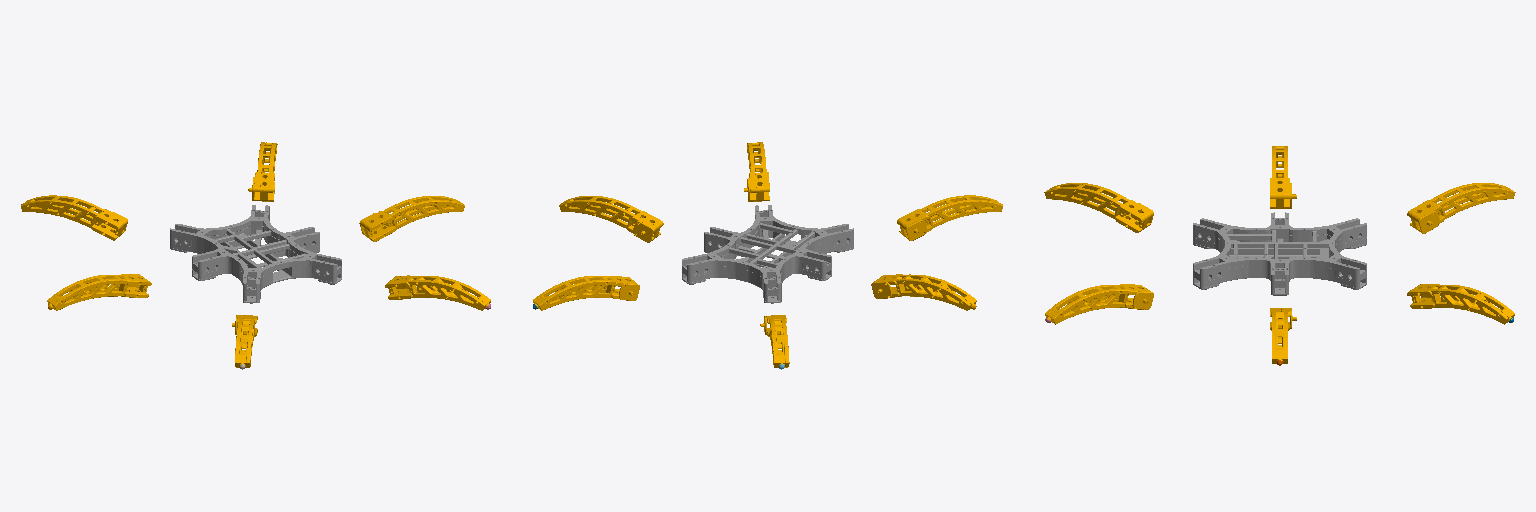
--- Render facts (derived) ---
3 views of the same robot in one strip: view 1: azimuth 30°, elevation 25°; view 2: azimuth 150°, elevation 25°; view 3: azimuth 270°, elevation 25° (orthographic).
Robot: onshape — 26 links, 25 joints (18 revolute, 7 fixed); root link world; default pose: every joint at zero.
Links seen in each view (by area): view 1: bodyv2, tibiav2-cp_l_3, tibiav2-cp_r_2, tibiav2-cp_r_3, tibiav2-cp_l_2, tibiav2-cp_r, tibiav2-cp_l; view 2: bodyv2, tibiav2-cp_l, tibiav2-cp_r_2, tibiav2-cp_r, tibiav2-cp_l_2, tibiav2-cp_r_3, tibiav2-cp_l_3; view 3: bodyv2, tibiav2-cp_l, tibiav2-cp_l_3, tibiav2-cp_r_3, tibiav2-cp_r, tibiav2-cp_l_2, tibiav2-cp_r_2.
Link boxes in pixels (x1,y1,x2,y2): bodyv2: [170, 205, 341, 303]; tibiav2-cp_l_3: [21, 195, 127, 240]; tibiav2-cp_r_2: [359, 196, 464, 241]; tibiav2-cp_r_3: [385, 275, 490, 310]; tibiav2-cp_l_2: [47, 274, 151, 310]; tibiav2-cp_r: [248, 142, 277, 201]; tibiav2-cp_l: [232, 315, 257, 368]; bodyv2: [682, 205, 853, 303]; tibiav2-cp_l: [897, 195, 1002, 240]; tibiav2-cp_r_2: [559, 196, 663, 242]; tibiav2-cp_r: [533, 276, 639, 310]; tibiav2-cp_l_2: [871, 274, 976, 310]; tibiav2-cp_r_3: [744, 142, 769, 201]; tibiav2-cp_l_3: [760, 315, 789, 367]; bodyv2: [1193, 212, 1366, 295]; tibiav2-cp_l: [1044, 183, 1153, 232]; tibiav2-cp_l_3: [1407, 183, 1515, 233]; tibiav2-cp_r_3: [1045, 284, 1153, 324]; tibiav2-cp_r: [1407, 284, 1514, 324]; tibiav2-cp_l_2: [1270, 146, 1296, 208]; tibiav2-cp_r_2: [1270, 308, 1296, 363].
Bounding box of the posed robot: 1.03 × 0.9541 × 0.0658 m (x, y, z).
Meshes: 7 distinct files referenced, 7 mesh visuals loaded (3 OBJ); not drawn: 12 (reference not matched to a file when rendering).

robot.urdf — onshape:
<robot name="onshape">

    <link name="world"/>

    <joint name="fixed" type="fixed">
        <parent link="world"/>
        <child link="bodyv2"/>
    </joint>

    <link name="bodyv2">
        <visual>
            <origin xyz="0 0 0" rpy="0 -0 0" />
            <geometry>
                <mesh filename="../meshes/bodyv2.obj" />
            </geometry>
            <material name="bodyv2_material">
                <color
                    rgba="0.64705882352941179736 0.64705882352941179736 0.64705882352941179736 1.0" />
            </material>
        </visual>
        <collision>
            <origin rpy="0 0 0" xyz="0 0 0.0208"/>
            <geometry>
                <box size="0.154 0.224 0.0415"/>
            </geometry>
        </collision>
        <inertial>
            <origin
                xyz="-0.00016156646610776290531 0.0020690551697271782582 0.018635279603876668542"
                rpy="0 0 0" />
            <mass value="1.2037374722047951003" />
            <inertia ixx="0.010656763365604652108" ixy="1.1009035481021484386e-06"
                ixz="2.5007077941524114511e-06" iyy="0.0071653095044550470932"
                iyz="2.6102685037083721384e-05" izz="0.017431156217660285362" />
        </inertial>
    </link>



    <link name="coxav2-cp_r">
        <visual>
            <origin xyz="0.044924999999999687406 3.3841416545784007838e-16 0.015349999999999995592"
                rpy="-2.220446050594320057e-16 4.1572969705147401066e-27 7.478872514840289116e-17" />
            <geometry>
                <mesh filename="../meshes/coxav2-cp_r.obj" />
            </geometry>
            <material name="coxav2-cp_r_material">
                <color rgba="0.2313725490196078538 0.38039215686274507888 0.7058823529411765163 1.0" />
            </material>
        </visual>
        <collision>
            <origin xyz="0.0155 0.0 0.0246" rpy="0.0 0.0 0.0"/>
            <geometry>  
                <box size="0.09626568 0.0415 0.073"/>
            </geometry>
        </collision>
        <inertial>
            <origin xyz="0.030948537684062606828 0.0015279358057482558906 0.025335970459042220226"
                rpy="0 0 0" />
            <mass value="0.12884275139013859346" />
            <inertia ixx="0.00011011455913134015521" ixy="-2.8149219260561553808e-06"
                ixz="8.9250422527697492926e-06" iyy="0.00016056370782807269891"
                iyz="1.7135142885492474365e-06" izz="9.2722387824107529151e-05" />
        </inertial>
    </link>

    <link name="femurv2-cp_r">
        <visual>
            <origin xyz="0.11831370849898595332 -1.3877787807814456755e-17 0.025050000000000006289"
                rpy="-1.570796326794896336 2.3154521450840299509e-16 -1.8792258622622753027e-32" />
            <geometry>
                <mesh filename="../meshes/femurv2-cp_r.obj" />
            </geometry>
            <material name="femurv2-cp_r_material">
                <color
                    rgba="0.97254901960784312376 0.52941176470588235947 0.0039215686274509803377 1.0" />
            </material>
        </visual>
        <collision>
            <origin xyz="0.059156855 0.0 0.0246" rpy="0.0 0.0 0.0"/>
            <geometry>  
                <box size="0.156314 0.0415 0.073"/>
            </geometry>
        </collision>
        <inertial>
            <origin xyz="0.06082506750932465539 -1.5136200039238513742e-09 0.026970838378384598411"
                rpy="0 0 0" />
            <mass value="0.12070110637352102212" />
            <inertia ixx="0.00012336870256801971395" ixy="-3.2244334122795035788e-06"
                ixz="5.1376080092876681537e-07" iyy="0.00032491531984020667612"
                iyz="-2.1187797231752816524e-13" izz="0.00023604451059041267461" />
        </inertial>
    </link>

    <link name="tibiav2-cp_r">
        <visual>
            <origin xyz="0.22117075446837414221 0.00010480390885179644012 0.025250000000001146527"
                rpy="-1.5707963267948961139 2.0881301362003362234e-16 -2.4651903288156624393e-32" />
            <geometry>
                <mesh filename="../meshes/tibiav2-cp_r.obj" />
            </geometry>
            <material name="tibiav2-cp_r_material">
                <color
                    rgba="0.98039215686274505668 0.71372549019607844922 0.0039215686274509803377 1.0" />
            </material>
        </visual>
        <collision>
            <origin xyz="0.01352462339 0.003617258919 0.02509" rpy="0.0 0.0 0.26134120396 "/>
            <geometry>  
                <box size="0.0655 0.0415 0.0417"/>
            </geometry>
        </collision>
        <inertial>
            <origin xyz="0.082592297380876616986 0.012229493286894628848 0.024032647470113480126"
                rpy="0 0 0" />
            <mass value="0.16860990559390126586" />
            <inertia ixx="6.244932437467701897e-05" ixy="-5.8064365362945862654e-05"
                ixz="-1.6251472388168913152e-05" iyy="0.00086246462711135152366"
                iyz="-2.3947943719185567726e-06" izz="0.00087270111324797559112" />
        </inertial>
    </link>

    <joint name="FemurTibia1" type="revolute">
        <origin xyz="0.1183137084989848431 -1.9081958235744878039e-17 -4.1633363423443370266e-17"
            rpy="-1.6953482199534145611e-17 7.4923617708775792653e-17 5.551115123541516097e-17" />
        <parent link="femurv2-cp_r" />
        <child link="tibiav2-cp_r" />
        <axis xyz="0 0 1" />
        <limit effort="1" velocity="20" />
        <joint_properties friction="0.0" />
    </joint>

    <joint name="CoxaFemur1" type="revolute">
        <origin xyz="0.044924999999999853939 0.025050000000000370581 0.015349999999999990388"
            rpy="1.570796326794896336 4.1572979018096710656e-27 1.3525580482673391912e-16" />
        <parent link="coxav2-cp_r" />
        <child link="femurv2-cp_r" />
        <axis xyz="0 0 1" />
        <limit effort="1" velocity="20" />
        <joint_properties friction="0.0" />
    </joint>

    <joint name="BodyCoxa1" type="revolute">
        <origin xyz="0.098035026302704594836 0.15096070223017660217 -0.0045000000000000005274"
            rpy="0 -2.4651903296048737344e-32 0.99483767363676756101" />
        <parent link="bodyv2" />
        <child link="coxav2-cp_r" />
        <axis xyz="0 0 1" />
        <limit effort="1" velocity="20" />
        <joint_properties friction="0.0" />
    </joint>

    <link name="coxav2-cp_r_2">
        <visual>
            <origin xyz="0.044924999999999715161 3.2028130148349362021e-16 0.015349999999999995592"
                rpy="-2.220446050594320057e-16 4.1572969705147401066e-27 7.9187868350077541959e-59" />
            <geometry>
                <mesh filename="../meshes/coxav2-cp_r.obj" />
            </geometry>
            <material name="coxav2-cp_r_material">
                <color rgba="0.2313725490196078538 0.38039215686274507888 0.7058823529411765163 1.0" />
            </material>
        </visual>
        <collision>
            <origin xyz="0.0155 0.0 0.0246" rpy="0.0 0.0 0.0"/>
            <geometry>  
                <box size="0.09626568 0.0415 0.073"/>
            </geometry>
        </collision>
        <inertial>
            <origin xyz="0.030948537684062631115 0.001527935805748238977 0.025335970459042220226"
                rpy="0 0 0" />
            <mass value="0.12884275139013859346" />
            <inertia ixx="0.00011011455913134015521" ixy="-2.8149219260561706274e-06"
                ixz="8.9250422527697492926e-06" iyy="0.00016056370782807275312"
                iyz="1.713514288549247013e-06" izz="9.2722387824107529151e-05" />
        </inertial>
    </link>

    <link name="femurv2-cp_r_2">
        <visual>
            <origin xyz="0.11831370849898600883 -1.3877787807814456755e-17 0.025049999999999964656"
                rpy="-1.570796326794896336 2.8723936427800499152e-16 0" />
            <geometry>
                <mesh filename="../meshes/femurv2-cp_r.obj" />
            </geometry>
            <material name="femurv2-cp_r_material">
                <color
                    rgba="0.97254901960784312376 0.52941176470588235947 0.0039215686274509803377 1.0" />
            </material>
        </visual>
        <collision>
            <origin xyz="0.059156855 0.0 0.0246" rpy="0.0 0.0 0.0"/>
            <geometry>  
                <box size="0.156314 0.0415 0.073"/>
            </geometry>
        </collision>
        <inertial>
            <origin xyz="0.060825067509324703963 -1.5136200039238513742e-09 0.026970838378384560247"
                rpy="0 0 0" />
            <mass value="0.12070110637352102212" />
            <inertia ixx="0.00012336870256801976816" ixy="-3.2244334122795040023e-06"
                ixz="5.1376080092877952086e-07" iyy="0.00032491531984020667612"
                iyz="-2.1187797213794611325e-13" izz="0.00023604451059041272882" />
        </inertial>
    </link>

    <link name="tibiav2-cp_r_2">
        <visual>
            <origin xyz="0.22117075446837425323 0.00010480390885179644012 0.025250000000001143058"
                rpy="-1.5707963267948961139 2.3241406019702804199e-16 0" />
            <geometry>
                <mesh filename="../meshes/tibiav2-cp_r.obj" />
            </geometry>
            <material name="tibiav2-cp_r_material">
                <color
                    rgba="0.98039215686274505668 0.71372549019607844922 0.0039215686274509803377 1.0" />
            </material>
        </visual>
        <collision>
            <origin xyz="0.01352462339 0.003617258919 0.02509" rpy="0.0 0.0 0.26134120396 "/>
            <geometry>  
                <box size="0.0655 0.0415 0.0417"/>
            </geometry>
        </collision>
        <inertial>
            <origin xyz="0.082592297380876700252 0.012229493286894628848 0.024032647470113480126"
                rpy="0 0 0" />
            <mass value="0.16860990559390126586" />
            <inertia ixx="6.2449324374677046075e-05" ixy="-5.806436536294586943e-05"
                ixz="-1.6251472388168875882e-05" iyy="0.00086246462711135152366"
                iyz="-2.394794371918555502e-06" izz="0.00087270111324797580796" />
        </inertial>
    </link>

    <joint name="FemurTibia2" type="revolute">
        <origin xyz="0.11831370849898506514 0 0" rpy="0 5.8915479855140975462e-52 0" />
        <parent link="femurv2-cp_r_2" />
        <child link="tibiav2-cp_r_2" />
        <axis xyz="0 0 1" />
        <limit effort="1" velocity="20" />
        <joint_properties friction="0.0" />
    </joint>

    <joint name="CoxaFemur2" type="revolute">
        <origin xyz="0.044924999999999687406 0.025050000000000322009 0.015349999999999990388"
            rpy="1.570796326794896336 4.1572969705147401066e-27 1.1832913578315177081e-30" />
        <parent link="coxav2-cp_r_2" />
        <child link="femurv2-cp_r_2" />
        <axis xyz="0 0 1" />
        <limit effort="1" velocity="20" />
        <joint_properties friction="0.0" />
    </joint>

    <joint name="BodyCoxa2" type="revolute">
        <origin xyz="0.13000000000000000444 2.088607032214904854e-19 -0.0039000000000000006883"
            rpy="0 -0 -7.9187868350077541959e-59" />
        <parent link="bodyv2" />
        <child link="coxav2-cp_r_2" />
        <axis xyz="0 0 1" />
        <limit effort="1" velocity="20" />
        <joint_properties friction="0.0" />
    </joint>

    <link name="coxav2-cp_r_3">
        <visual>
            <origin xyz="0.044924999999999742917 3.257639905383399944e-16 0.015349999999999995592"
                rpy="-2.220446050594320057e-16 4.1572969705147401066e-27 8.040461820721662843e-17" />
            <geometry>
                <mesh filename="../meshes/coxav2-cp_r.obj" />
            </geometry>
            <material name="coxav2-cp_r_material">
                <color rgba="0.2313725490196078538 0.38039215686274507888 0.7058823529411765163 1.0" />
            </material>
        </visual>
        <collision>
            <origin xyz="0.0155 0.0 0.0246" rpy="0.0 0.0 0.0"/>
            <geometry>  
                <box size="0.09626568 0.0415 0.073"/>
            </geometry>
        </collision>
        <inertial>
            <origin xyz="0.03094853768406265887 0.0015279358057482433138 0.025335970459042220226"
                rpy="0 0 0" />
            <mass value="0.12884275139013859346" />
            <inertia ixx="0.00011011455913134015521" ixy="-2.8149219260561803683e-06"
                ixz="8.9250422527697492926e-06" iyy="0.00016056370782807275312"
                iyz="1.7135142885492476482e-06" izz="9.2722387824107529151e-05" />
        </inertial>
    </link>

    <link name="femurv2-cp_r_3">
        <visual>
            <origin xyz="0.11831370849898603659 -1.3877787807814456755e-17 0.025049999999999978534"
                rpy="-1.570796326794896336 2.8440316557020761339e-16 -3.5727006843363076696e-33" />
            <geometry>
                <mesh filename="../meshes/femurv2-cp_r.obj" />
            </geometry>
            <material name="femurv2-cp_r_material">
                <color
                    rgba="0.97254901960784312376 0.52941176470588235947 0.0039215686274509803377 1.0" />
            </material>
        </visual>
        <collision>
            <origin xyz="0.059156855 0.0 0.0246" rpy="0.0 0.0 0.0"/>
            <geometry>  
                <box size="0.156314 0.0415 0.073"/>
            </geometry>
        </collision>
        <inertial>
            <origin xyz="0.060825067509324710902 -1.5136200039238513742e-09 0.026970838378384574124"
                rpy="0 0 0" />
            <mass value="0.12070110637352102212" />
            <inertia ixx="0.00012336870256801982237" ixy="-3.2244334122795048494e-06"
                ixz="5.1376080092877920322e-07" iyy="0.00032491531984020667612"
                iyz="-2.118779721470912452e-13" izz="0.00023604451059041272882" />
        </inertial>
    </link>

    <link name="tibiav2-cp_r_3">
        <visual>
            <origin xyz="0.22117075446837430874 0.00010480390885179644012 0.025250000000001153466"
                rpy="-1.5707963267948961139 2.6140117956109480423e-16 -5.2039607354307863881e-33" />
            <geometry>
                <mesh filename="../meshes/tibiav2-cp_r.obj" />
            </geometry>
            <material name="tibiav2-cp_r_material">
                <color
                    rgba="0.98039215686274505668 0.71372549019607844922 0.0039215686274509803377 1.0" />
            </material>
        </visual>
        <collision>
            <origin xyz="0.01352462339 0.003617258919 0.02509" rpy="0.0 0.0 0.26134120396 "/>
            <geometry>  
                <box size="0.0655 0.0415 0.0417"/>
            </geometry>
        </collision>
        <inertial>
            <origin xyz="0.082592297380876755764 0.012229493286894628848 0.024032647470113490534"
                rpy="0 0 0" />
            <mass value="0.16860990559390126586" />
            <inertia ixx="6.2449324374677046075e-05" ixy="-5.806436536294586943e-05"
                ixz="-1.6251472388168777626e-05" iyy="0.00086246462711135152366"
                iyz="-2.394794371918553808e-06" izz="0.00087270111324797559112" />
        </inertial>
    </link>

    <joint name="FemurTibia3" type="revolute">
        <origin xyz="0.11831370849898475983 1.7347234759768070944e-18 1.3877787807814456755e-17"
            rpy="-3.4512664603419244591e-31 8.8134141193996676966e-17 3.2186500697891184772e-32" />
        <parent link="femurv2-cp_r_3" />
        <child link="tibiav2-cp_r_3" />
        <axis xyz="0 0 1" />
        <limit effort="1" velocity="20" />
        <joint_properties friction="0.0" />
    </joint>

    <joint name="CoxaFemur3" type="revolute">
        <origin xyz="0.044924999999999604139 0.025050000000000294254 0.015349999999999992123"
            rpy="1.570796326794896336 4.1572979018096681958e-27 5.5624975971851880972e-17" />
        <parent link="coxav2-cp_r_3" />
        <child link="femurv2-cp_r_3" />
        <axis xyz="0 0 1" />
        <limit effort="1" velocity="20" />
        <joint_properties friction="0.0" />
    </joint>

    <joint name="BodyCoxa3" type="revolute">
        <origin xyz="0.09803502630270488627 -0.1509607022301762691 -0.0044999999999999987926"
            rpy="-1.9721522630525295135e-31 -7.8921129510773646455e-42 -0.99483767363676967044" />
        <parent link="bodyv2" />
        <child link="coxav2-cp_r_3" />
        <axis xyz="0 0 1" />
        <limit effort="1" velocity="20" />
        <joint_properties friction="0.0" />
    </joint>

    <link name="coxav2-cp_l">
        <visual>
            <origin xyz="0.044924999999999687406 -3.201838345771710557e-16 0.015349999999999995592"
                rpy="-2.220446050594320057e-16 -4.1572969705147401066e-27 -3.141592653589793116" />
            <geometry>
                <mesh filename="../meshes/coxav2-cp_l.obj" />
            </geometry>
            <material name="coxav2-cp_l_material">
                <color rgba="0.2313725490196078538 0.38039215686274507888 0.7058823529411765163 1.0" />
            </material>
        </visual>
        <collision>
            <origin xyz="0.0155 0.0 0.0246" rpy="0.0 0.0 0.0"/>
            <geometry>  
                <box size="0.09626568 0.0415 0.073"/>
            </geometry>
        </collision>
        <inertial>
            <origin xyz="0.030948330328326324051 -0.0015279350267063975238 0.025335805878510614386"
                rpy="0 0 0" />
            <mass value="0.12884168129204809361" />
            <inertia ixx="0.00011011326055947715961" ixy="2.8148565689187824999e-06"
                ixz="8.9253727001102267164e-06" iyy="0.00016056187126428921345"
                iyz="-1.7132149842332346516e-06" izz="9.2721677711425317704e-05" />
        </inertial>
    </link>

    <link name="femurv2-cp_l">
        <visual>
            <origin xyz="0.11831370849898598108 1.3877787807814456755e-17 0.025049999999999988942"
                rpy="-1.570796326794896336 -2.1434928901735174212e-16 -3.141592653589793116" />
            <geometry>
                <mesh filename="../meshes/femurv2-cp_l.obj" />
            </geometry>
            <material name="femurv2-cp_l_material">
                <color
                    rgba="0.97254901960784312376 0.52941176470588235947 0.0039215686274509803377 1.0" />
            </material>
        </visual>
        <collision>
            <origin xyz="0.059156855 0.0 0.0246" rpy="0.0 0.0 0.0"/>
            <geometry>  
                <box size="0.156314 0.0415 0.073"/>
            </geometry>
        </collision>
        <inertial>
            <origin xyz="0.060825060358375086789 2.5728453038989989627e-09 0.026970844356125546482"
                rpy="0 0 0" />
            <mass value="0.12070103811634615154" />
            <inertia ixx="0.00012336867803479324365" ixy="3.2244249879171339253e-06"
                ixz="5.1375358470081635524e-07" iyy="0.00032491528790824406817"
                iyz="3.3631755549265157386e-12" izz="0.00023604448941317229338" />
        </inertial>
    </link>

    <link name="tibiav2-cp_l">
        <visual>
            <origin xyz="0.22117075446837430874 -0.00010480390885179644012 0.025250000000001122241"
                rpy="-1.5707963267948961139 -2.9768346214442543876e-16 3.141592653589793116" />
            <geometry>
                <mesh filename="../meshes/tibiav2-cp_l.obj" />
            </geometry>
            <material name="tibiav2-cp_l_material">
                <color
                    rgba="0.98039215686274505668 0.71372549019607844922 0.0039215686274509803377 1.0" />
            </material>
        </visual>
        <collision>
            <origin xyz="0.01352462339 0.003617258919 0.02509" rpy="0.0 0.0 0.26134120396 "/>
            <geometry>  
                <box size="0.0655 0.0415 0.0417"/>
            </geometry>
        </collision>
        <inertial>
            <origin xyz="0.082592290189909739473 -0.012229487075237986671 0.024032591894866818516"
                rpy="0 0 0" />
            <mass value="0.16860992998600971005" />
            <inertia ixx="6.2449347675464560799e-05" ixy="5.8064455622301218104e-05"
                ixz="-1.6251800133231701986e-05" iyy="0.00086246474699329129382"
                iyz="2.394828232458152766e-06" izz="0.00087270127201055560512" />
        </inertial>
    </link>

    <joint name="FemurTibia4" type="revolute">
        <origin xyz="0.11831370849898503739 -3.4694469519536141888e-18 -4.5102810375396984455e-17"
            rpy="0 5.277176377065159758e-17 -1.2797962189837723024e-32" />
        <parent link="femurv2-cp_l" />
        <child link="tibiav2-cp_l" />
        <axis xyz="0 0 1" />
        <limit effort="1" velocity="20" />
        <joint_properties friction="0.0" />
    </joint>

    <joint name="CoxaFemur4" type="revolute">
        <origin xyz="0.044924999999999770672 -0.025050000000000297723 0.01534999999999997651"
            rpy="-1.570796326794896336 4.1572948203217621985e-27 4.8473574358091203186e-17" />
        <parent link="coxav2-cp_l" />
        <child link="femurv2-cp_l" />
        <axis xyz="0 0 1" />
        <limit effort="1" velocity="20" />
        <joint_properties friction="0.0" />
    </joint>

    <joint name="BodyCoxa4" type="revolute">
        <origin xyz="-0.09803502630270369278 -0.15096070223017762912 -0.0044999999999999970579"
            rpy="-4.9303806576313237838e-32 -7.8921129510773735669e-42 -2.1467549799530263321" />
        <parent link="bodyv2" />
        <child link="coxav2-cp_l" />
        <axis xyz="0 0 1" />
        <limit effort="1" velocity="20" />
        <joint_properties friction="0.0" />
    </joint>

    <link name="coxav2-cp_l_2">
        <visual>
            <origin xyz="0.044924999999999715161 -3.2028130148349366951e-16 0.015349999999999995592"
                rpy="-2.220446050594320057e-16 -4.1572969705147401066e-27 3.141592653589793116" />
            <geometry>
                <mesh filename="../meshes/coxav2-cp_l.obj" />
            </geometry>
            <material name="coxav2-cp_l_material">
                <color rgba="0.2313725490196078538 0.38039215686274507888 0.7058823529411765163 1.0" />
            </material>
        </visual>
        <collision>
            <origin xyz="0.0155 0.0 0.0246" rpy="0.0 0.0 0.0"/>
            <geometry>  
                <box size="0.09626568 0.0415 0.073"/>
            </geometry>
        </collision>
        <inertial>
            <origin xyz="0.030948330328326358746 -0.0015279350267063966564 0.025335805878510614386"
                rpy="0 0 0" />
            <mass value="0.12884168129204809361" />
            <inertia ixx="0.00011011326055947715961" ixy="2.8148565689187634416e-06"
                ixz="8.9253727001102267164e-06" iyy="0.00016056187126428921345"
                iyz="-1.7132149842332352868e-06" izz="9.2721677711425317704e-05" />
        </inertial>
    </link>

    <link name="femurv2-cp_l_2">
        <visual>
            <origin xyz="0.11831370849898600883 1.3877787807814456755e-17 0.025049999999999964656"
                rpy="-1.570796326794896336 -2.8723936427800499152e-16 3.141592653589793116" />
            <geometry>
                <mesh filename="../meshes/femurv2-cp_l.obj" />
            </geometry>
            <material name="femurv2-cp_l_material">
                <color
                    rgba="0.97254901960784312376 0.52941176470588235947 0.0039215686274509803377 1.0" />
            </material>
        </visual>
        <collision>
            <origin xyz="0.059156855 0.0 0.0246" rpy="0.0 0.0 0.0"/>
            <geometry>  
                <box size="0.156314 0.0415 0.073"/>
            </geometry>
        </collision>
        <inertial>
            <origin xyz="0.060825060358375114544 2.5728453038989989627e-09 0.026970844356125525665"
                rpy="0 0 0" />
            <mass value="0.12070103811634615154" />
            <inertia ixx="0.00012336867803479324365" ixy="3.2244249879171339253e-06"
                ixz="5.1375358470080110865e-07" iyy="0.00032491528790824406817"
                iyz="3.3631755546914869886e-12" izz="0.00023604448941317229338" />
        </inertial>
    </link>

    <link name="tibiav2-cp_l_2">
        <visual>
            <origin xyz="0.22117075446837425323 -0.00010480390885179644012 0.025250000000001143058"
                rpy="-1.5707963267948961139 -2.3241406019702804199e-16 3.141592653589793116" />
            <geometry>
                <mesh filename="../meshes/tibiav2-cp_l.obj" />
            </geometry>
            <material name="tibiav2-cp_l_material">
                <color
                    rgba="0.98039215686274505668 0.71372549019607844922 0.0039215686274509803377 1.0" />
            </material>
        </visual>
        <collision>
            <origin xyz="0.01352462339 0.003617258919 0.02509" rpy="0.0 0.0 0.26134120396 "/>
            <geometry>  
                <box size="0.0655 0.0415 0.0417"/>
            </geometry>
        </collision>
        <inertial>
            <origin xyz="0.082592290189909656206 -0.012229487075237986671 0.024032591894866835863"
                rpy="0 0 0" />
            <mass value="0.16860992998600971005" />
            <inertia ixx="6.2449347675464587904e-05" ixy="5.806445562230122488e-05"
                ixz="-1.6251800133231674881e-05" iyy="0.00086246474699329129382"
                iyz="2.3948282324581565777e-06" izz="0.00087270127201055560512" />
        </inertial>
    </link>

    <joint name="FemurTibia5" type="revolute">
        <origin xyz="0.11831370849898506514 0 0" rpy="0 5.8915479855140975462e-52 0" />
        <parent link="femurv2-cp_l_2" />
        <child link="tibiav2-cp_l_2" />
        <axis xyz="0 0 1" />
        <limit effort="1" velocity="20" />
        <joint_properties friction="0.0" />
    </joint>

    <joint name="CoxaFemur5" type="revolute">
        <origin xyz="0.044924999999999687406 -0.025050000000000325479 0.015349999999999990388"
            rpy="-1.570796326794896336 4.1572969705147401066e-27 -1.1832913578315177081e-30" />
        <parent link="coxav2-cp_l_2" />
        <child link="femurv2-cp_l_2" />
        <axis xyz="0 0 1" />
        <limit effort="1" velocity="20" />
        <joint_properties friction="0.0" />
    </joint>

    <joint name="BodyCoxa5" type="revolute">
        <origin xyz="-0.13000000000000000444 -1.5987725032784004981e-15 -0.0045000000000000005274"
            rpy="0 -0 -3.141592653589793116" />
        <parent link="bodyv2" />
        <child link="coxav2-cp_l_2" />
        <axis xyz="0 0 1" />
        <limit effort="1" velocity="20" />
        <joint_properties friction="0.0" />
    </joint>

    <link name="coxav2-cp_l_3">
        <visual>
            <origin xyz="0.044924999999999715161 -3.1913241041673734937e-16 0.015349999999999995592"
                rpy="-2.220446050594320057e-16 -4.1572969705147401066e-27 -3.141592653589793116" />
            <geometry>
                <mesh filename="../meshes/coxav2-cp_l.obj" />
            </geometry>
            <material name="coxav2-cp_l_material">
                <color rgba="0.2313725490196078538 0.38039215686274507888 0.7058823529411765163 1.0" />
            </material>
        </visual>
        <collision>
            <origin xyz="0.0155 0.0 0.0246" rpy="0.0 0.0 0.0"/>
            <geometry>  
                <box size="0.09626568 0.0415 0.073"/>
            </geometry>
        </collision>
        <inertial>
            <origin xyz="0.030948330328326358746 -0.0015279350267063962227 0.025335805878510614386"
                rpy="0 0 0" />
            <mass value="0.12884168129204809361" />
            <inertia ixx="0.00011011326055947715961" ixy="2.8148565689187676768e-06"
                ixz="8.9253727001102267164e-06" iyy="0.00016056187126428915924"
                iyz="-1.7132149842332346516e-06" izz="9.2721677711425317704e-05" />
        </inertial>
    </link>

    <link name="femurv2-cp_l_3">
        <visual>
            <origin xyz="0.11831370849898598108 1.3877787807814456755e-17 0.025049999999999957717"
                rpy="-1.570796326794896336 -2.9683333007343419924e-16 3.141592653589793116" />
            <geometry>
                <mesh filename="../meshes/femurv2-cp_l.obj" />
            </geometry>
            <material name="femurv2-cp_l_material">
                <color
                    rgba="0.97254901960784312376 0.52941176470588235947 0.0039215686274509803377 1.0" />
            </material>
        </visual>
        <collision>
            <origin xyz="0.059156855 0.0 0.0246" rpy="0.0 0.0 0.0"/>
            <geometry>  
                <box size="0.156314 0.0415 0.073"/>
            </geometry>
        </collision>
        <inertial>
            <origin xyz="0.060825060358375086789 2.5728453038989989627e-09 0.026970844356125518726"
                rpy="0 0 0" />
            <mass value="0.12070103811634615154" />
            <inertia ixx="0.00012336867803479324365" ixy="3.2244249879171339253e-06"
                ixz="5.137535847007947559e-07" iyy="0.00032491528790824406817"
                iyz="3.3631755546605521301e-12" izz="0.00023604448941317229338" />
        </inertial>
    </link>

    <link name="tibiav2-cp_l_3">
        <visual>
            <origin xyz="0.22117075446837425323 -0.00010480390885179644012 0.025250000000001143058"
                rpy="-1.5707963267948961139 -2.9683333007343419924e-16 3.141592653589793116" />
            <geometry>
                <mesh filename="../meshes/tibiav2-cp_l.obj" />
            </geometry>
            <material name="tibiav2-cp_l_material">
                <color
                    rgba="0.98039215686274505668 0.71372549019607844922 0.0039215686274509803377 1.0" />
            </material>
        </visual>
        <collision>
            <origin xyz="0.01352462339 0.003617258919 0.02509" rpy="0.0 0.0 0.26134120396 "/>
            <geometry>  
                <box size="0.0655 0.0415 0.0417"/>
            </geometry>
        </collision>
        <inertial>
            <origin xyz="0.082592290189909656206 -0.012229487075237986671 0.024032591894866839333"
                rpy="0 0 0" />
            <mass value="0.16860992998600971005" />
            <inertia ixx="6.2449347675464587904e-05" ixy="5.806445562230122488e-05"
                ixz="-1.6251800133231651164e-05" iyy="0.00086246474699329129382"
                iyz="2.394828232458152766e-06" izz="0.00087270127201055560512" />
        </inertial>
    </link>

    <joint name="FemurTibia6" type="revolute">
        <origin xyz="0.11831370849898503739 -3.4694469519536141888e-18 -4.1633363423443370266e-17"
            rpy="0 1.4321645470071863198e-17 -8.3370216344272758499e-33" />
        <parent link="femurv2-cp_l_3" />
        <child link="tibiav2-cp_l_3" />
        <axis xyz="0 0 1" />
        <limit effort="1" velocity="20" />
        <joint_properties friction="0.0" />
    </joint>

    <joint name="CoxaFemur6" type="revolute">
        <origin xyz="0.044924999999999770672 -0.025050000000000283845 0.015350000000000004266"
            rpy="-1.570796326794896336 4.1572979018096717831e-27 5.3671757578478919314e-18" />
        <parent link="coxav2-cp_l_3" />
        <child link="femurv2-cp_l_3" />
        <axis xyz="0 0 1" />
        <limit effort="1" velocity="20" />
        <joint_properties friction="0.0" />
    </joint>

    <joint name="BodyCoxa6" type="revolute">
        <origin xyz="-0.098035026302705066681 0.1509607022301762691 -0.0044999999999999970579"
            rpy="0 -1.2325951651970425148e-32 2.146754979953025444" />
        <parent link="bodyv2" />
        <child link="coxav2-cp_l_3" />
        <axis xyz="0 0 1" />
        <limit effort="1" velocity="20" />
        <joint_properties friction="0.0" />
    </joint>

    <link name="Foot1">
        <visual name="">
            <origin xyz="0.215305 0.0025 0.025250000000001146527" rpy="0.0 0.0 0.0"/>
            <geometry>
                <sphere radius="0.00663587"/>
            </geometry>
        </visual>
        <collision>
            <origin xyz="0.215305 0.0025 0.025250000000001146527" rpy="0.0 0.0 0.0"/>
            <geometry>
                <sphere radius="0.00663587"/>
            </geometry>
        </collision>
    </link>

    <joint name="Foot1" type="fixed">
        <origin xyz="0.0 0.0 0.0" rpy="0.0 0.0 0.0"/>
        <parent link="tibiav2-cp_r"/>
        <child link="Foot1"/>
        <axis xyz="0.0 0.0 0.0"/>
    </joint>

    <link name="Foot2">
        <visual name="">
            <origin xyz="0.215305 0.0025 0.025250000000001146527" rpy="0.0 0.0 0.0"/>
            <geometry>
                <sphere radius="0.00663587"/>
            </geometry>
        </visual>
        <collision>
            <origin xyz="0.215305 0.0025 0.025250000000001146527" rpy="0.0 0.0 0.0"/>
            <geometry>
                <sphere radius="0.00663587"/>
            </geometry>
        </collision>
    </link>

    <joint name="Foot2" type="fixed">
        <origin xyz="0.0 0.0 0.0" rpy="0.0 0.0 0.0"/>
        <parent link="tibiav2-cp_r_2"/>
        <child link="Foot2"/>
        <axis xyz="0.0 0.0 0.0"/>
    </joint>

    <link name="Foot3">
        <visual name="">
            <origin xyz="0.215305 0.0025 0.025250000000001146527" rpy="0.0 0.0 0.0"/>
            <geometry>
                <sphere radius="0.00663587"/>
            </geometry>
        </visual>
        <collision>
            <origin xyz="0.215305 0.0025 0.025250000000001146527" rpy="0.0 0.0 0.0"/>
            <geometry>
                <sphere radius="0.00663587"/>
            </geometry>
        </collision>
    </link>

    <joint name="Foot3" type="fixed">
        <origin xyz="0.0 0.0 0.0" rpy="0.0 0.0 0.0"/>
        <parent link="tibiav2-cp_r_3"/>
        <child link="Foot3"/>
        <axis xyz="0.0 0.0 0.0"/>
    </joint>

    <link name="Foot4">
        <visual name="">
            <origin xyz="0.215305 -0.0025 0.025250000000001146527" rpy="0.0 0.0 0.0"/>
            <geometry>
                <sphere radius="0.00663587"/>
            </geometry>
        </visual>
        <collision>
            <origin xyz="0.215305 -0.0025 0.025250000000001146527" rpy="0.0 0.0 0.0"/>
            <geometry>
                <sphere radius="0.00663587"/>
            </geometry>
        </collision>
    </link>

    <joint name="Foot4" type="fixed">
        <origin xyz="0.0 0.0 0.0" rpy="0.0 0.0 0.0"/>
        <parent link="tibiav2-cp_l"/>
        <child link="Foot4"/>
        <axis xyz="0.0 0.0 0.0"/>
    </joint>

    <link name="Foot5">
        <visual name="">
            <origin xyz="0.215305 -0.0025 0.025250000000001146527" rpy="0.0 0.0 0.0"/>
            <geometry>
                <sphere radius="0.00663587"/>
            </geometry>
        </visual>
        <collision>
            <origin xyz="0.215305 -0.0025 0.025250000000001146527" rpy="0.0 0.0 0.0"/>
            <geometry>
                <sphere radius="0.00663587"/>
            </geometry>
        </collision>
    </link>

    <joint name="Foot5" type="fixed">
        <origin xyz="0.0 0.0 0.0" rpy="0.0 0.0 0.0"/>
        <parent link="tibiav2-cp_l_2"/>
        <child link="Foot5"/>
        <axis xyz="0.0 0.0 0.0"/>
    </joint>

    <link name="Foot6">
        <visual name="">
            <origin xyz="0.215305 -0.0025 0.025250000000001146527" rpy="0.0 0.0 0.0"/>
            <geometry>
                <sphere radius="0.00663587"/>
            </geometry>
        </visual>
        <collision>
            <origin xyz="0.215305 -0.0025 0.025250000000001146527" rpy="0.0 0.0 0.0"/>
            <geometry>
                <sphere radius="0.00663587"/>
            </geometry>
        </collision>
    </link>

    <joint name="Foot6" type="fixed">
        <origin xyz="0.0 0.0 0.0" rpy="0.0 0.0 0.0"/>
        <parent link="tibiav2-cp_l_3"/>
        <child link="Foot6"/>
        <axis xyz="0.0 0.0 0.0"/>
    </joint>
</robot>
